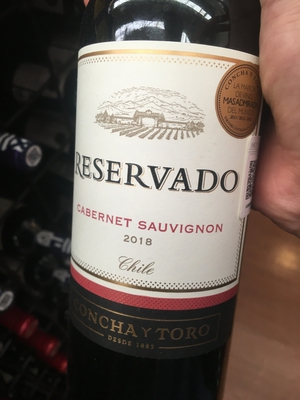reservado cabernet sauvignon: (55, 15, 265, 400)
